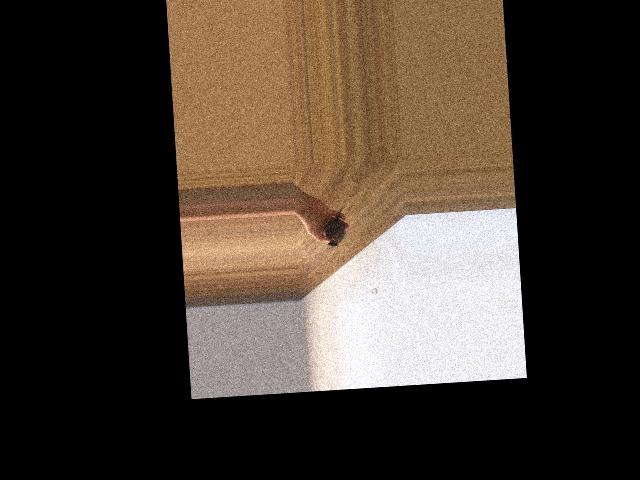beet: (322, 207, 347, 247)
